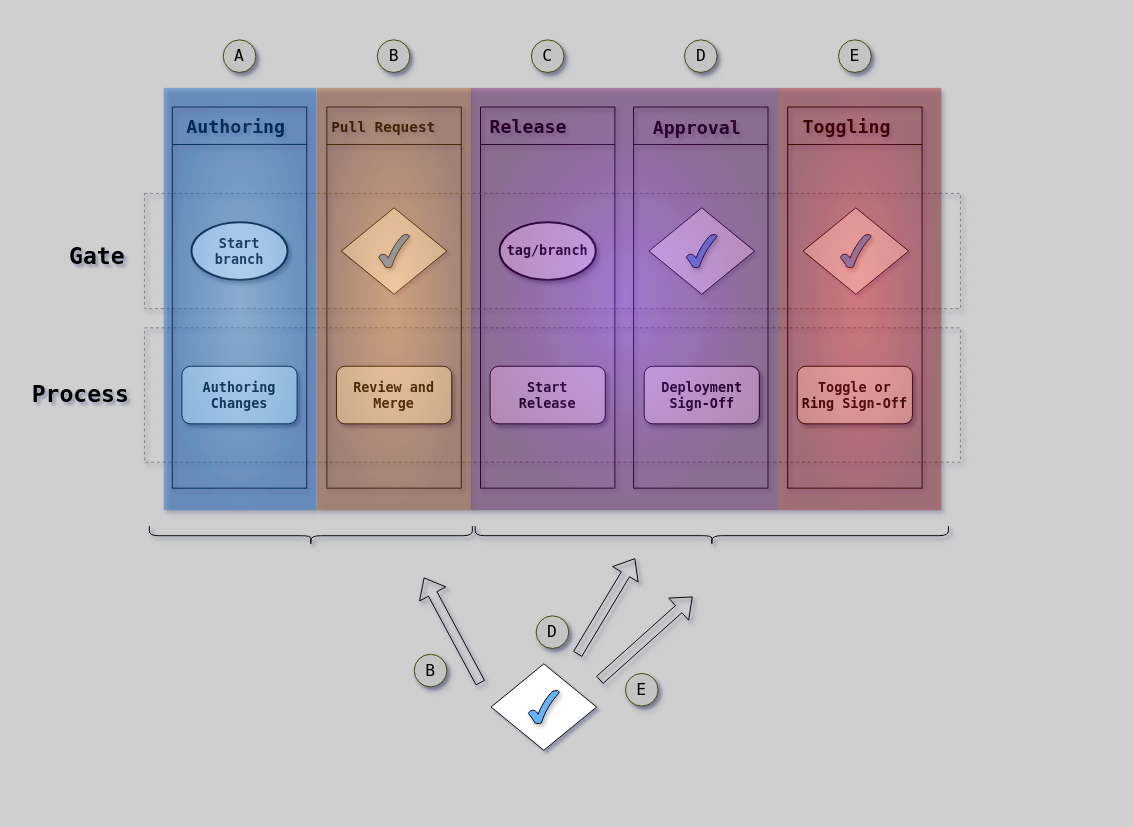
Some shapes in this 1133 by 827 pixel diagram are drawn without their labels. Each missing label, with the centre of its shape:
CD: [712,537]
CI+: [311,537]
